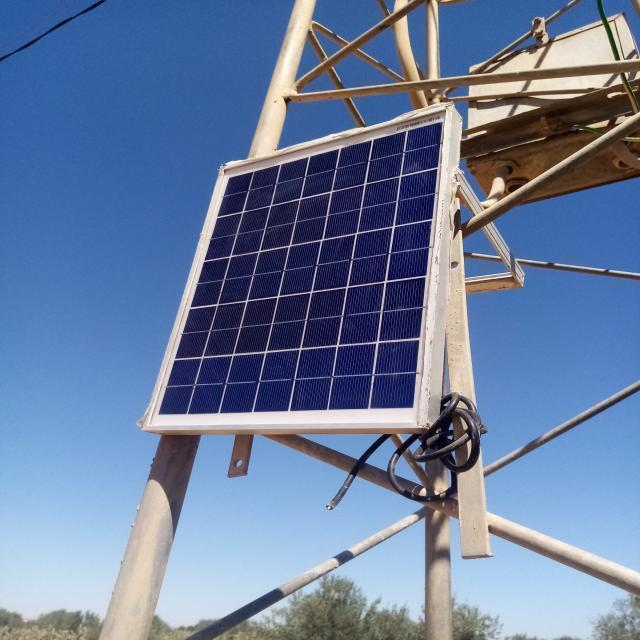Normal Solar Panel: (146, 106, 448, 427)
